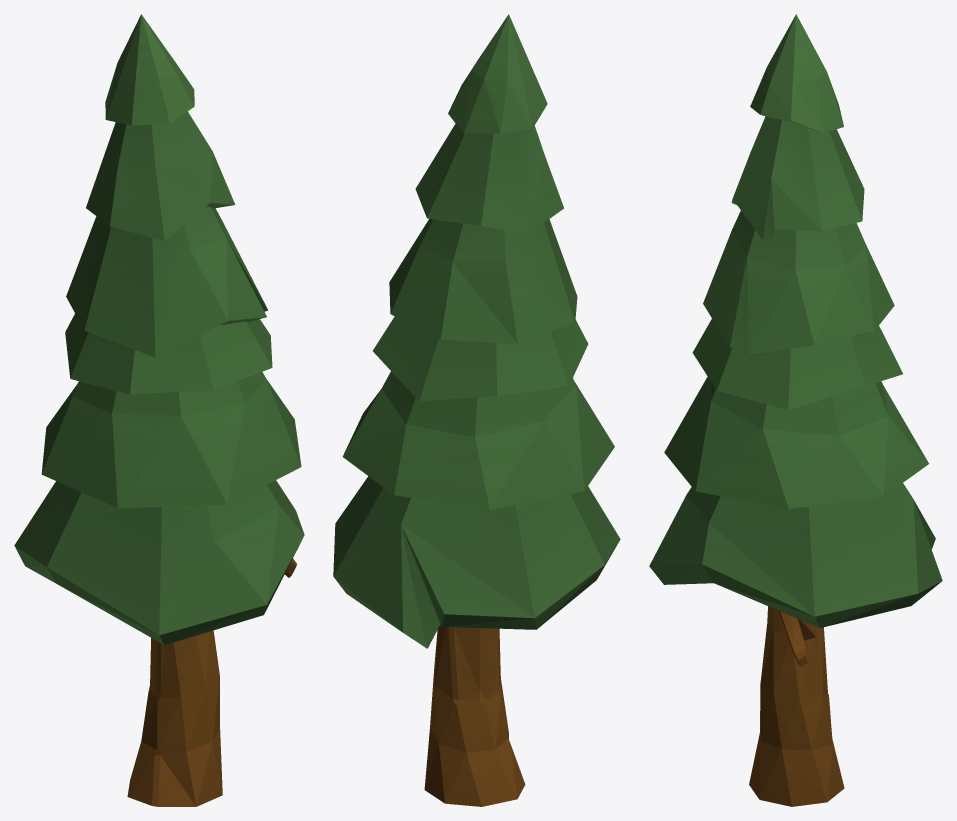
File: tree_fir_slim.glb
The picture shows the model from 3 angles, left to right: view 1: azimuth 30°, elevation 25°; view 2: azimuth 150°, elevation 25°; view 3: azimuth 270°, elevation 25°; orthographic projection. The views are drawn at different scales.
Visible parts, largest first — view 1: Tree_7_AA; view 2: Tree_7_AA; view 3: Tree_7_AA.
Boxes of the visible parts, <box> form: Tree_7_AA: <box>14,14,304,806</box>; Tree_7_AA: <box>333,14,620,806</box>; Tree_7_AA: <box>649,14,942,806</box>.
Size of the model in its own units: 1.3 by 3.75 by 1.32.
Materials: 1 (1 with a texture image).
